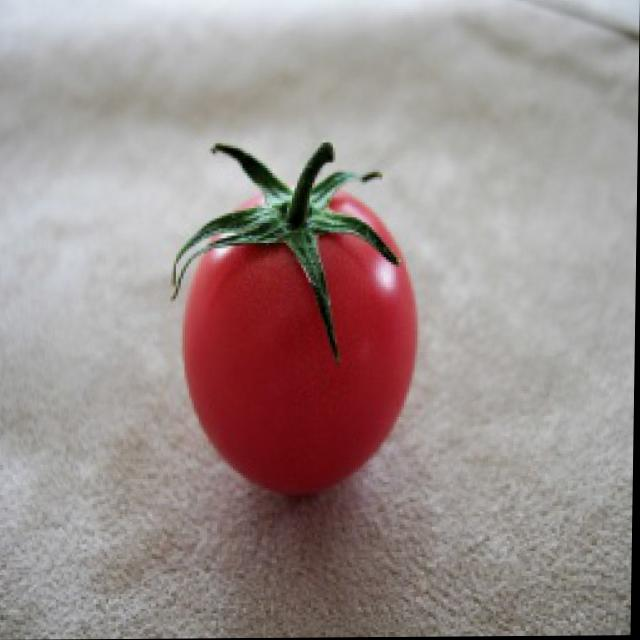tomato: (180, 176, 426, 502)
